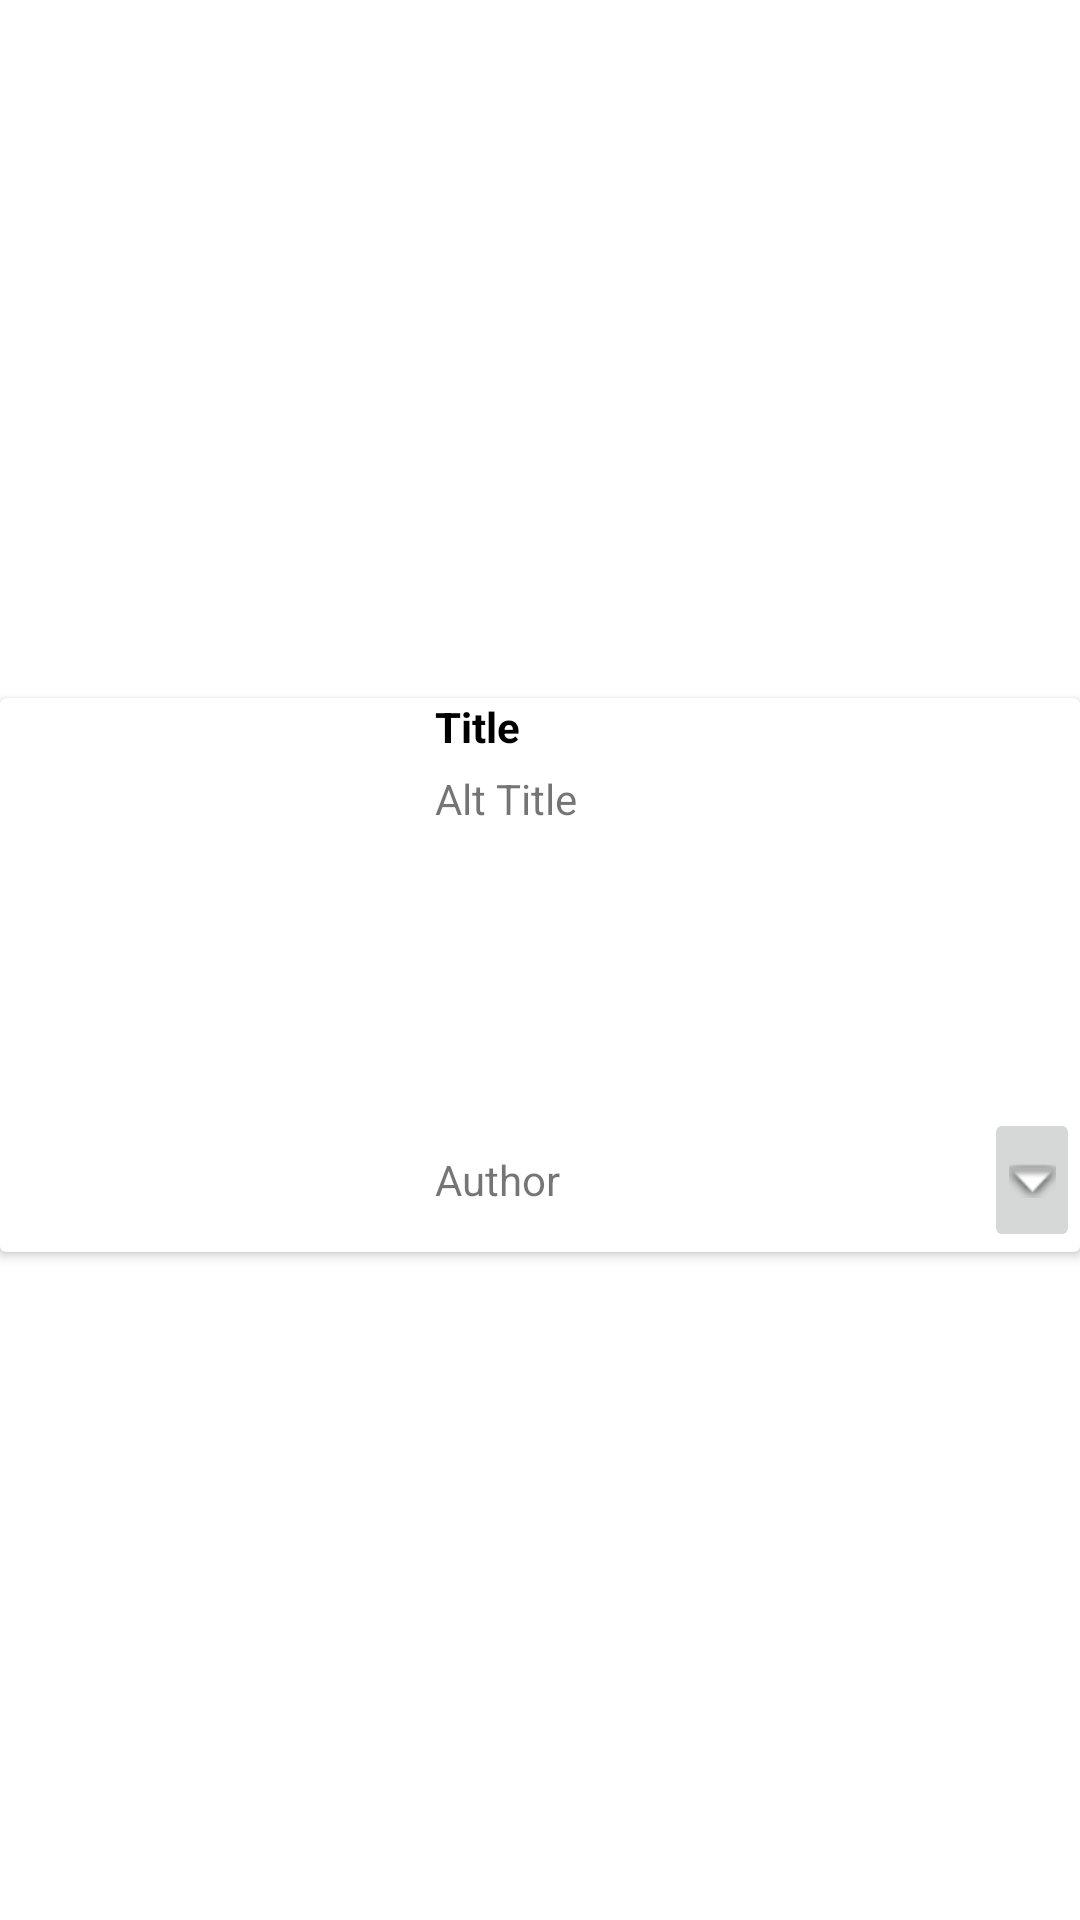

Screen size 1080px×1920px. Icon name, then its center in pixels as (x=x, y=y):
arrow down float: (x=1032, y=1180)
